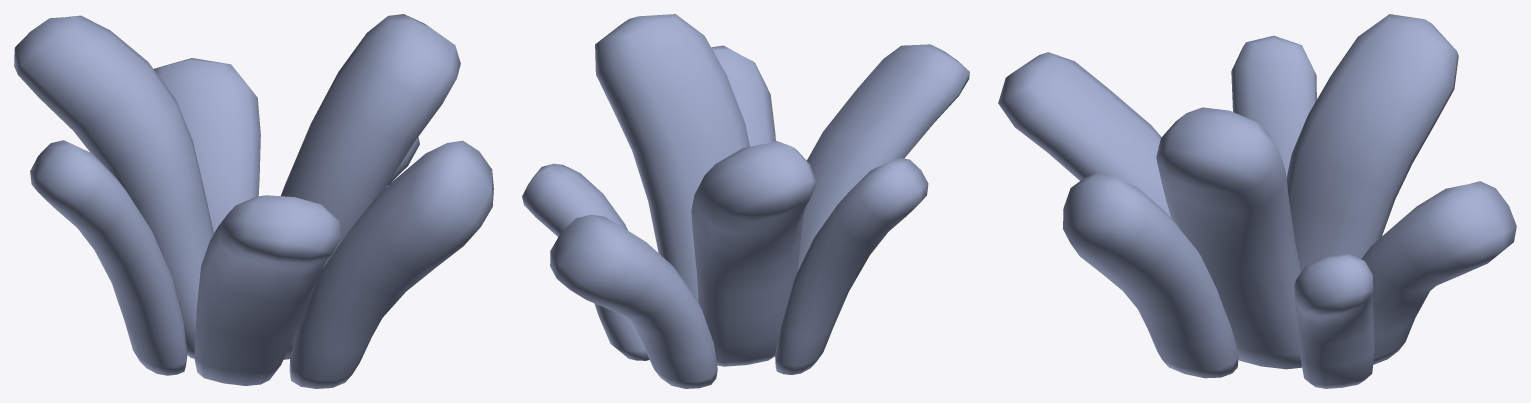
Rendered from Anemone_A_01.glb.
3 views of the same model, side by side, from view 1: azimuth 30°, elevation 25°; view 2: azimuth 150°, elevation 25°; view 3: azimuth 270°, elevation 25° (orthographic). The views are drawn at different scales.
Visible parts, largest first — view 1: Anemone_A_01_LOD0; view 2: Anemone_A_01_LOD0; view 3: Anemone_A_01_LOD0.
Boxes of the visible parts, x1=… form: Anemone_A_01_LOD0: x1=14, y1=14, x2=493, y2=388; Anemone_A_01_LOD0: x1=522, y1=14, x2=969, y2=388; Anemone_A_01_LOD0: x1=998, y1=14, x2=1516, y2=388.
Size of the model in its own units: 3.79 by 2.8 by 4.49.
Materials: 1 (1 with a texture image).
